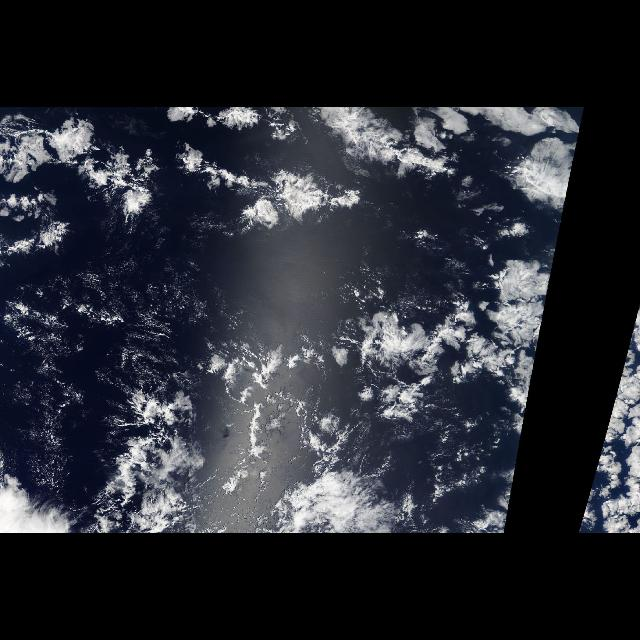Flower: (2, 108, 570, 288)
Sugar: (15, 276, 115, 489)
